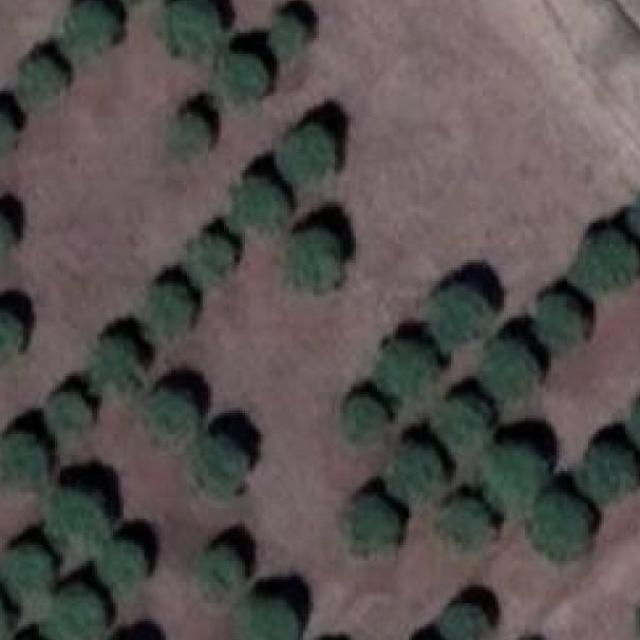Tree: (374, 339, 435, 402), (284, 228, 345, 289), (577, 231, 640, 289), (49, 484, 108, 545), (46, 582, 108, 640), (0, 543, 57, 606), (384, 442, 448, 498), (0, 432, 52, 498), (488, 444, 546, 502), (530, 492, 584, 554), (231, 592, 300, 640), (235, 176, 292, 233), (194, 434, 250, 492), (427, 290, 482, 348), (350, 496, 406, 552), (536, 291, 586, 353), (437, 501, 493, 556), (171, 0, 224, 57), (585, 440, 636, 498), (284, 125, 335, 183), (65, 0, 118, 55), (488, 342, 539, 398), (144, 390, 198, 442), (437, 395, 485, 448), (150, 284, 192, 340), (86, 334, 131, 386), (18, 57, 65, 105), (105, 542, 146, 596), (223, 54, 268, 101), (200, 545, 245, 592), (189, 233, 234, 279), (44, 392, 92, 434), (446, 603, 493, 640), (346, 395, 382, 442), (173, 110, 216, 147), (0, 310, 27, 368), (268, 17, 303, 59), (0, 207, 18, 260), (0, 587, 11, 640), (0, 112, 13, 154)
